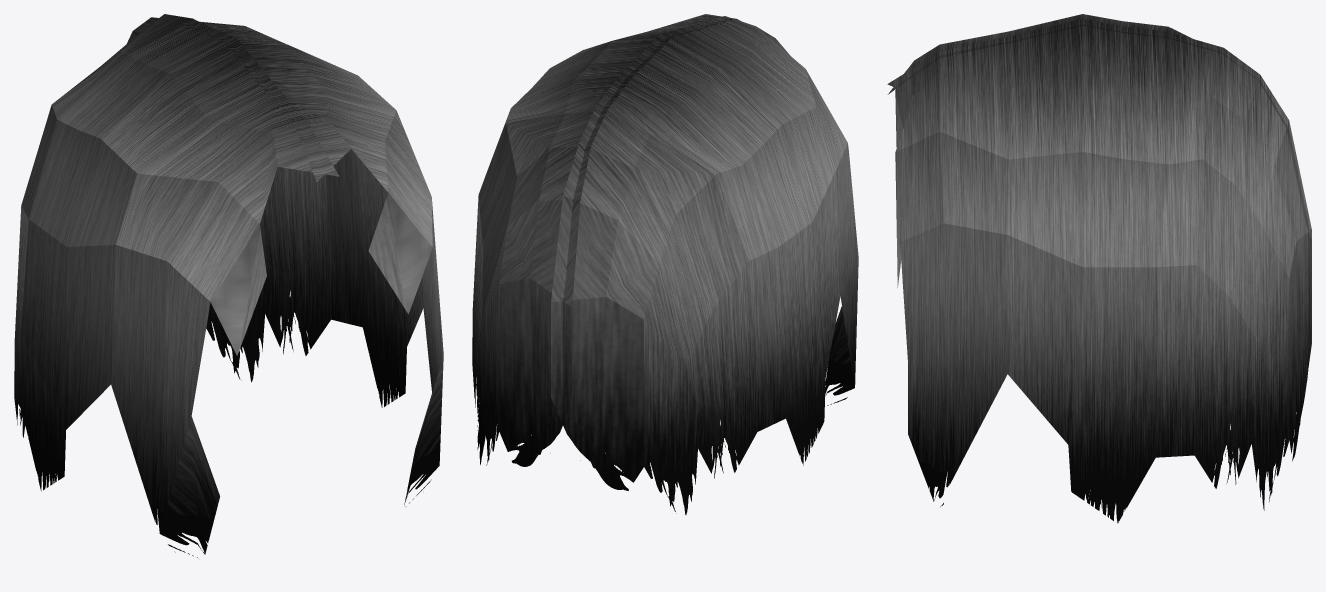
Rendered from hair1.FBX.
3 renders of one model, left to right at view 1: azimuth 30°, elevation 25°; view 2: azimuth 150°, elevation 25°; view 3: azimuth 270°, elevation 25°, orthographic. The views are drawn at different scales.
Visible parts, largest first — view 1: Plane001, Plane002; view 2: Plane001, Plane002; view 3: Plane002, Plane001.
Boxes of the visible parts, x1,y1,x2,y2 form: Plane001: (14, 14, 339, 557); Plane002: (127, 17, 443, 506); Plane001: (551, 16, 858, 514); Plane002: (472, 14, 740, 466); Plane002: (887, 19, 1311, 523); Plane001: (887, 14, 1311, 367).
Size of the model in its own units: 27.26 by 38.69 by 29.75.
